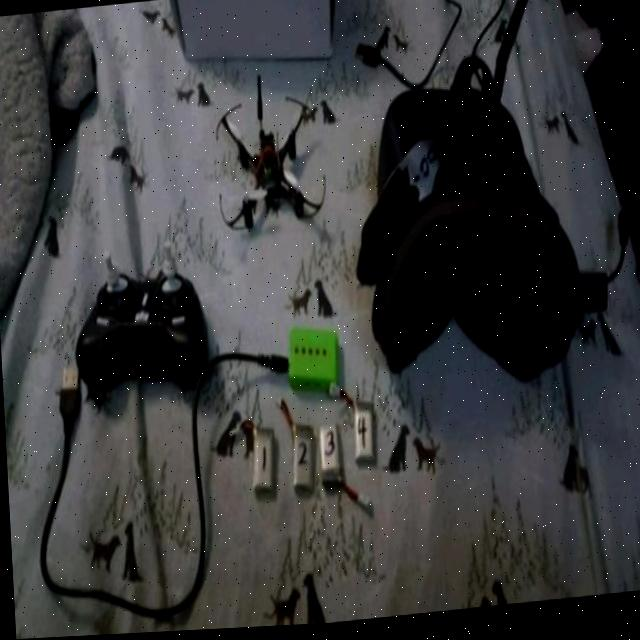drone: (202, 78, 334, 252)
